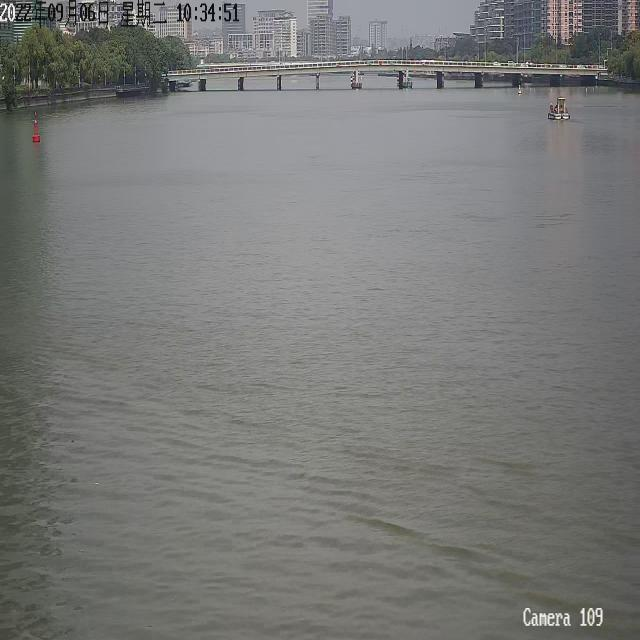ship: (548, 96, 570, 119)
